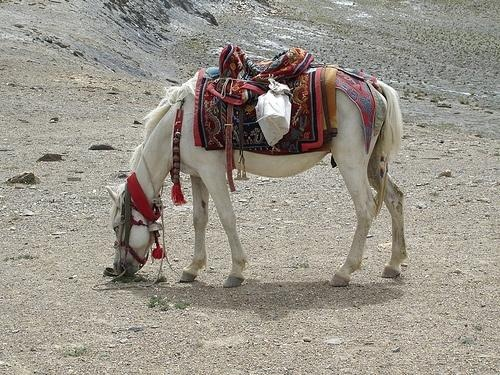horse: (110, 64, 408, 294)
